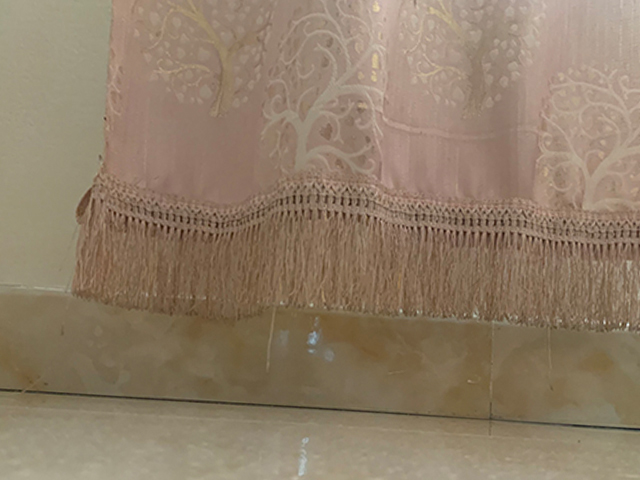curtain: (69, 1, 640, 333)
